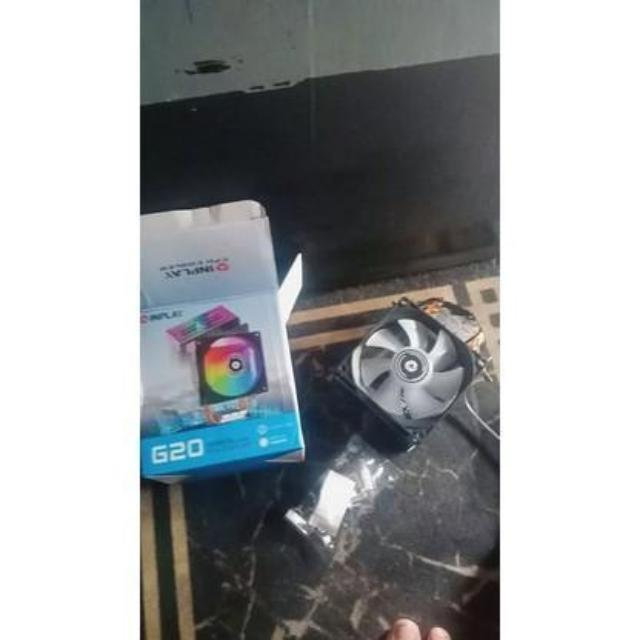CPU_Fan: (331, 303, 483, 451)
